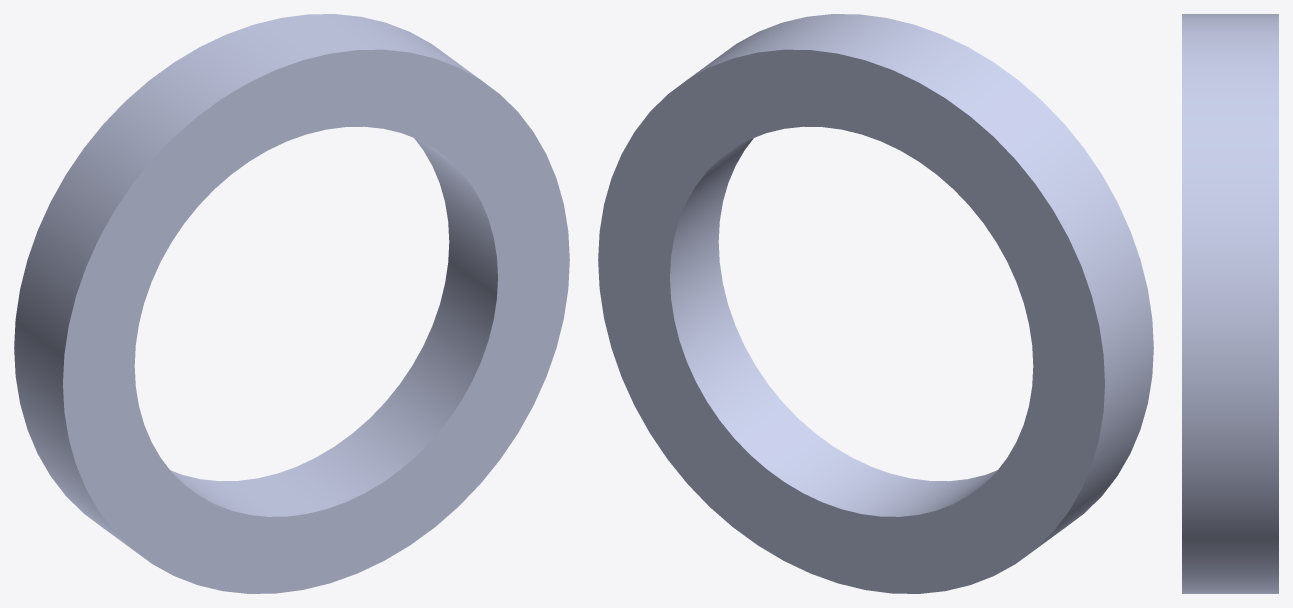
Rendered from Flexion Tendon Pulley Spacer.obj.
3 renders of one model, left to right at view 1: azimuth 30°, elevation 25°; view 2: azimuth 150°, elevation 25°; view 3: azimuth 270°, elevation 25°, orthographic.
Visible parts, largest first — view 1: mesh0, mesh1, mesh3; view 2: mesh2, mesh1, mesh3; view 3: mesh1.
Part boxes in pixels (x1,y1,x2,y2): mesh0: [63, 49, 569, 593]; mesh1: [14, 14, 478, 552]; mesh3: [170, 138, 497, 516]; mesh2: [598, 49, 1104, 593]; mesh1: [689, 14, 1153, 552]; mesh3: [670, 138, 997, 516]; mesh1: [1182, 14, 1278, 593].
Size of the model in its own units: 0.006 by 0.00599 by 0.001.
